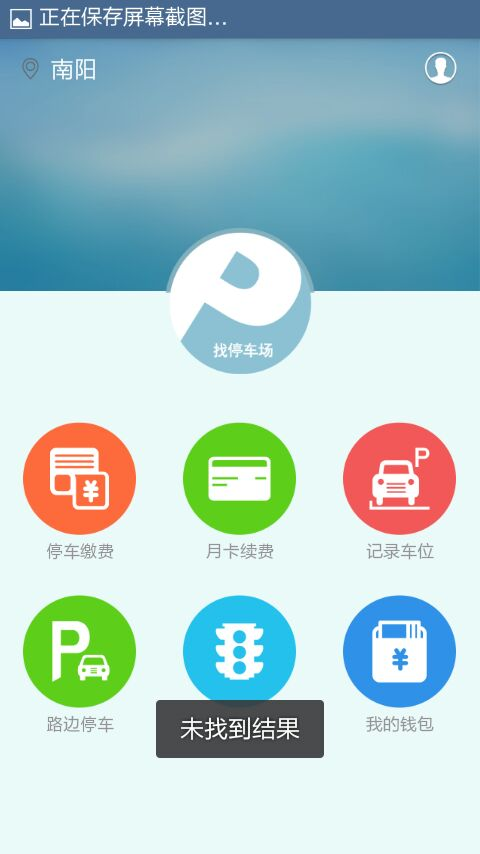alert: (155, 696, 327, 764)
imgbutton: (336, 412, 462, 564), (178, 417, 301, 566), (17, 417, 139, 537)
